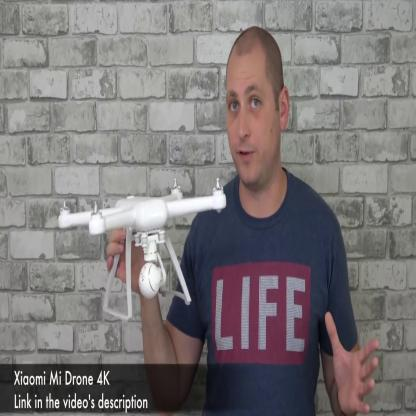drone: (56, 176, 232, 240)
